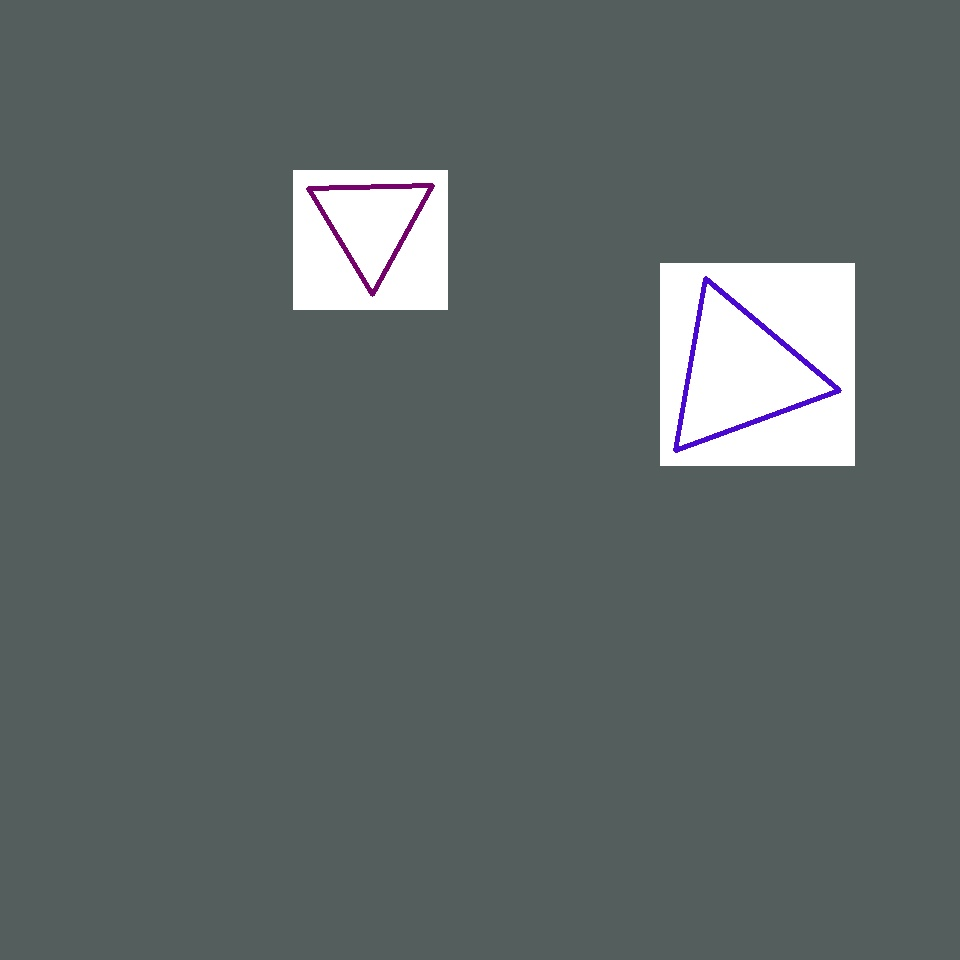circle: (658, 287, 822, 459), (100, 133, 246, 297), (36, 179, 180, 345), (309, 168, 433, 278)
square: (192, 326, 433, 568)
triangle: (266, 206, 614, 552), (399, 828, 527, 956)
